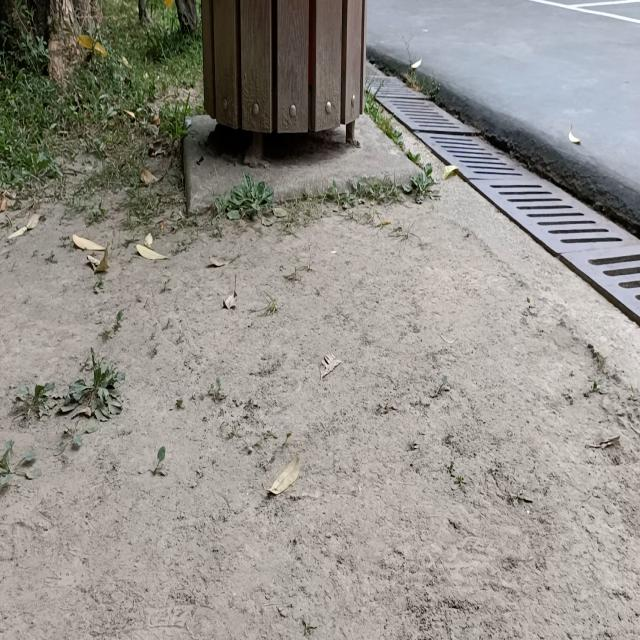white-sand: (0, 177, 640, 639)
